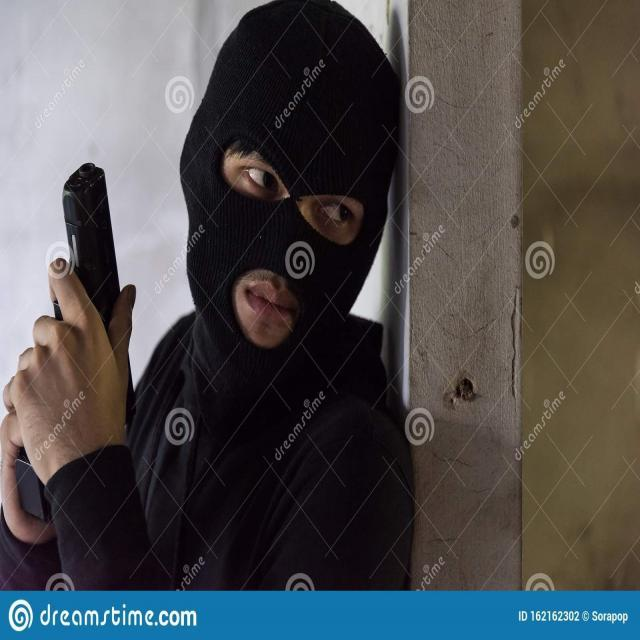gun: (7, 162, 133, 526)
